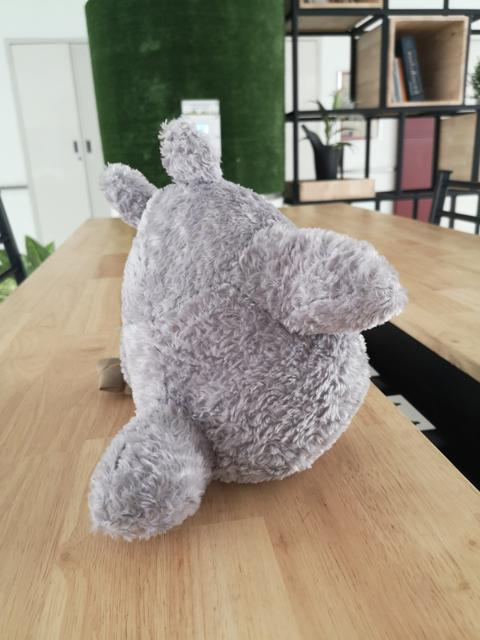totoro: (75, 108, 411, 554)
